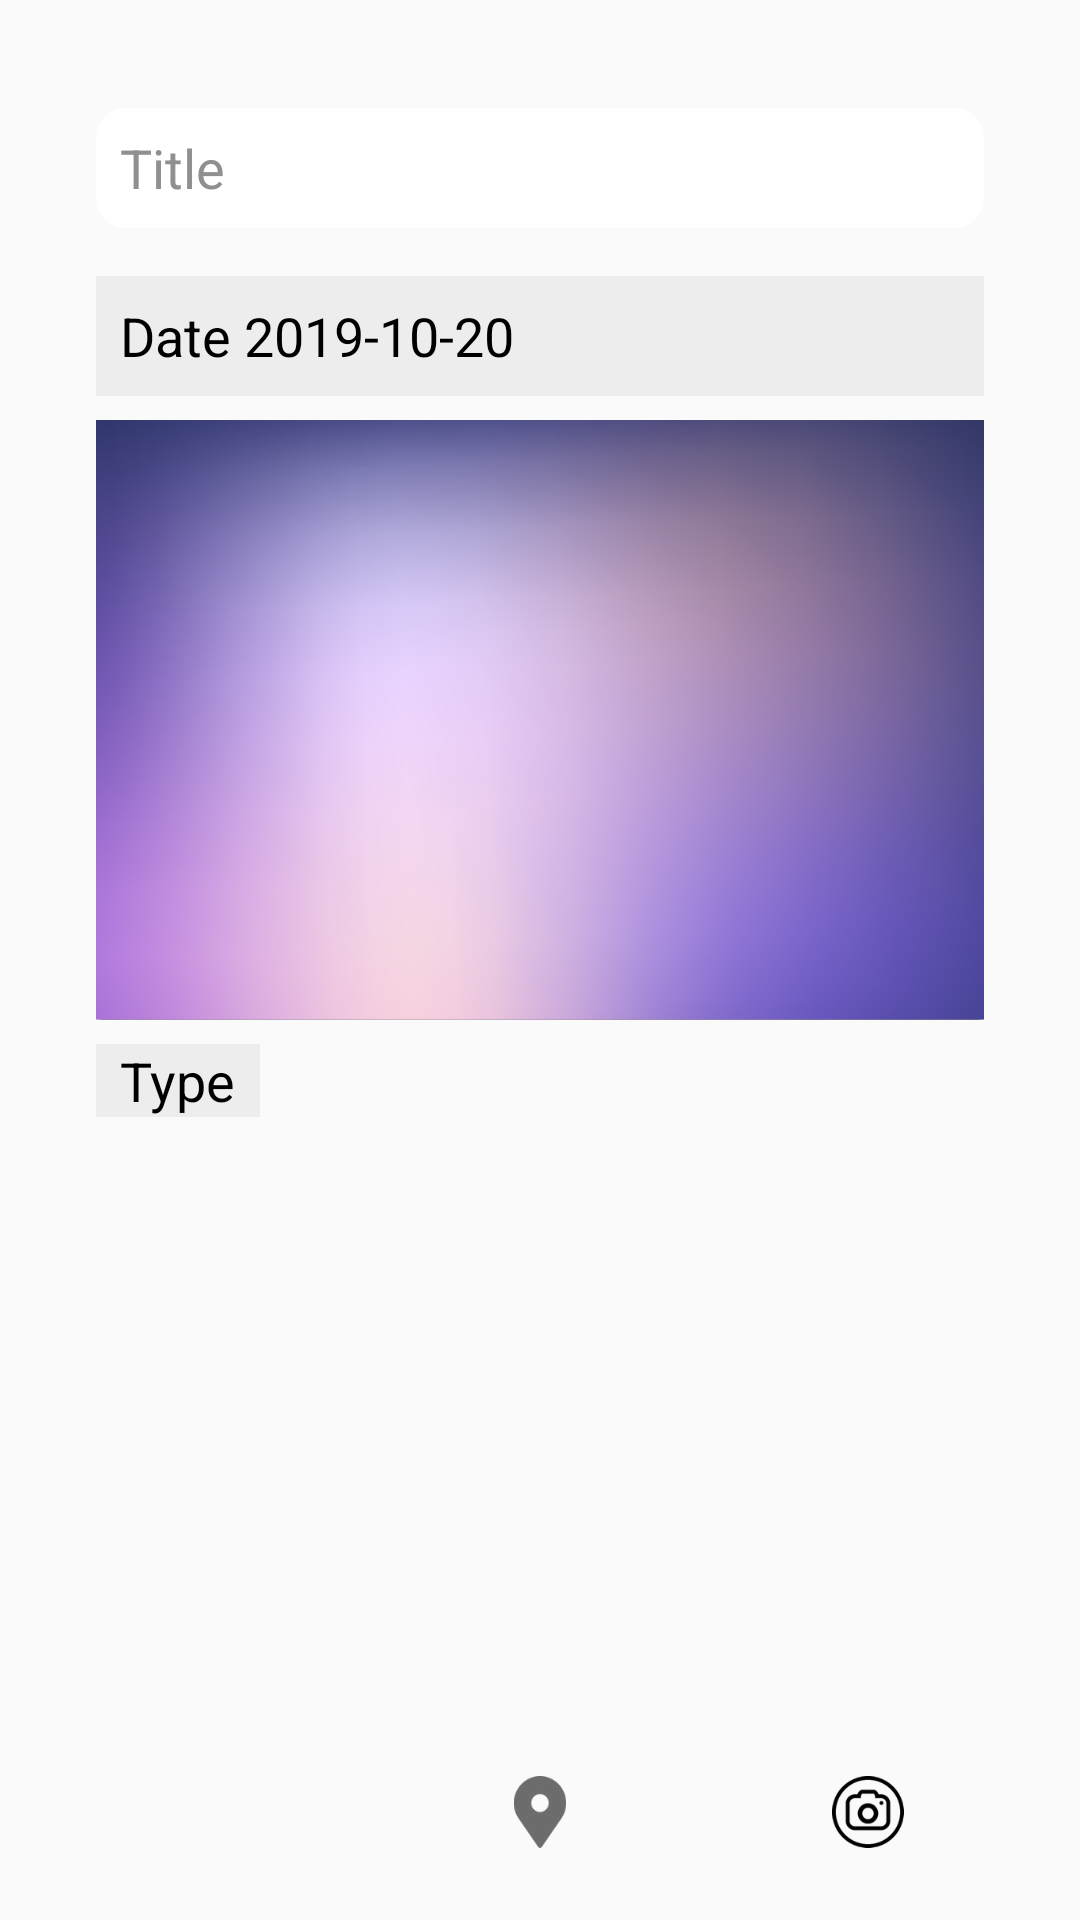

Icons on this 1080 × 1920 Android screen, each with the point to tap as (x=x, y=y):
pin: (x=540, y=1812)
